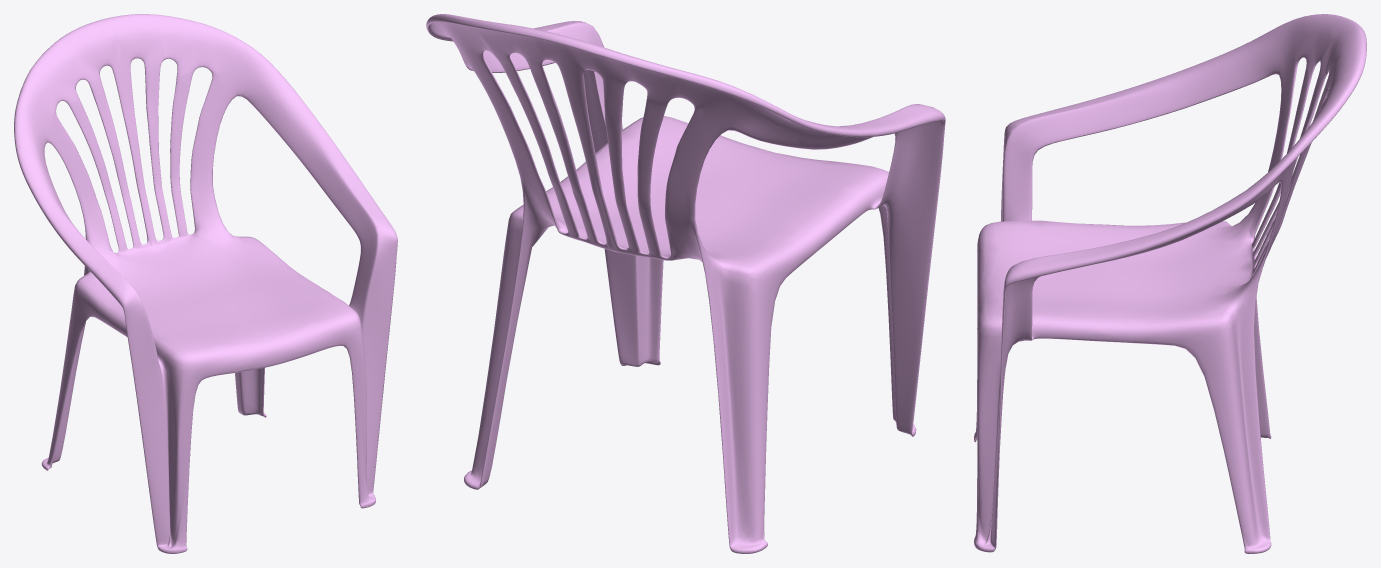
File: plastic_chair.obj
3 renders of one model, left to right at view 1: azimuth 30°, elevation 25°; view 2: azimuth 150°, elevation 25°; view 3: azimuth 270°, elevation 25°, orthographic. The views are drawn at different scales.
Visible parts, largest first — view 1: Mesh1 Group1 Model; view 2: Mesh1 Group1 Model; view 3: Mesh1 Group1 Model.
Part boxes in pixels (x1,y1,x2,y2): Mesh1 Group1 Model: (14,14,397,553); Mesh1 Group1 Model: (426,14,945,553); Mesh1 Group1 Model: (974,14,1366,553).
Bounding box in the file's own units: 0.6977 × 0.8945 × 0.7089.
